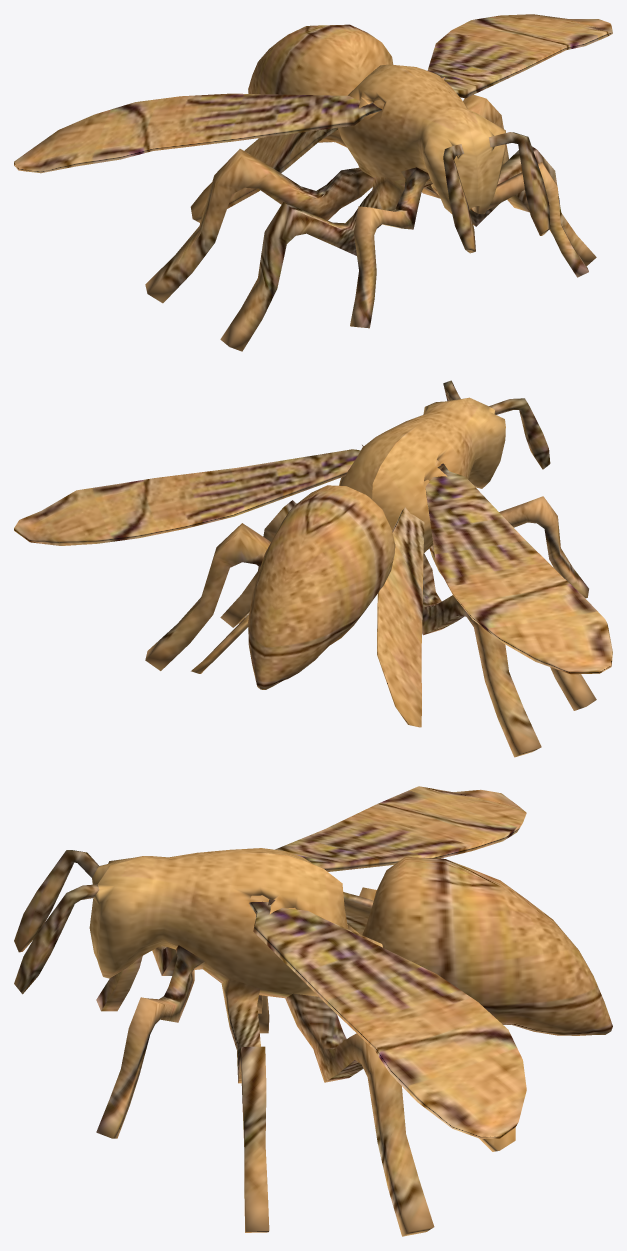
Rendered from bade3.obj.
3 renders of one model, top to bottom at view 1: azimuth 30°, elevation 25°; view 2: azimuth 150°, elevation 25°; view 3: azimuth 270°, elevation 25°, orthographic. The views are drawn at different scales.
Visible parts, largest first — view 1: bado3:wasp, bado3:polySurface2; view 2: bado3:wasp, bado3:polySurface2; view 3: bado3:wasp, bado3:polySurface2.
Boxes of the visible parts, x1,y1,x2,y2 form: bado3:wasp: [145, 24, 596, 351]; bado3:polySurface2: [14, 14, 612, 222]; bado3:wasp: [145, 380, 596, 757]; bado3:polySurface2: [14, 449, 612, 727]; bado3:wasp: [14, 848, 612, 1236]; bado3:polySurface2: [249, 786, 526, 1151].
Bounding box in the file's own units: 9.46 × 3.57 × 6.91.
